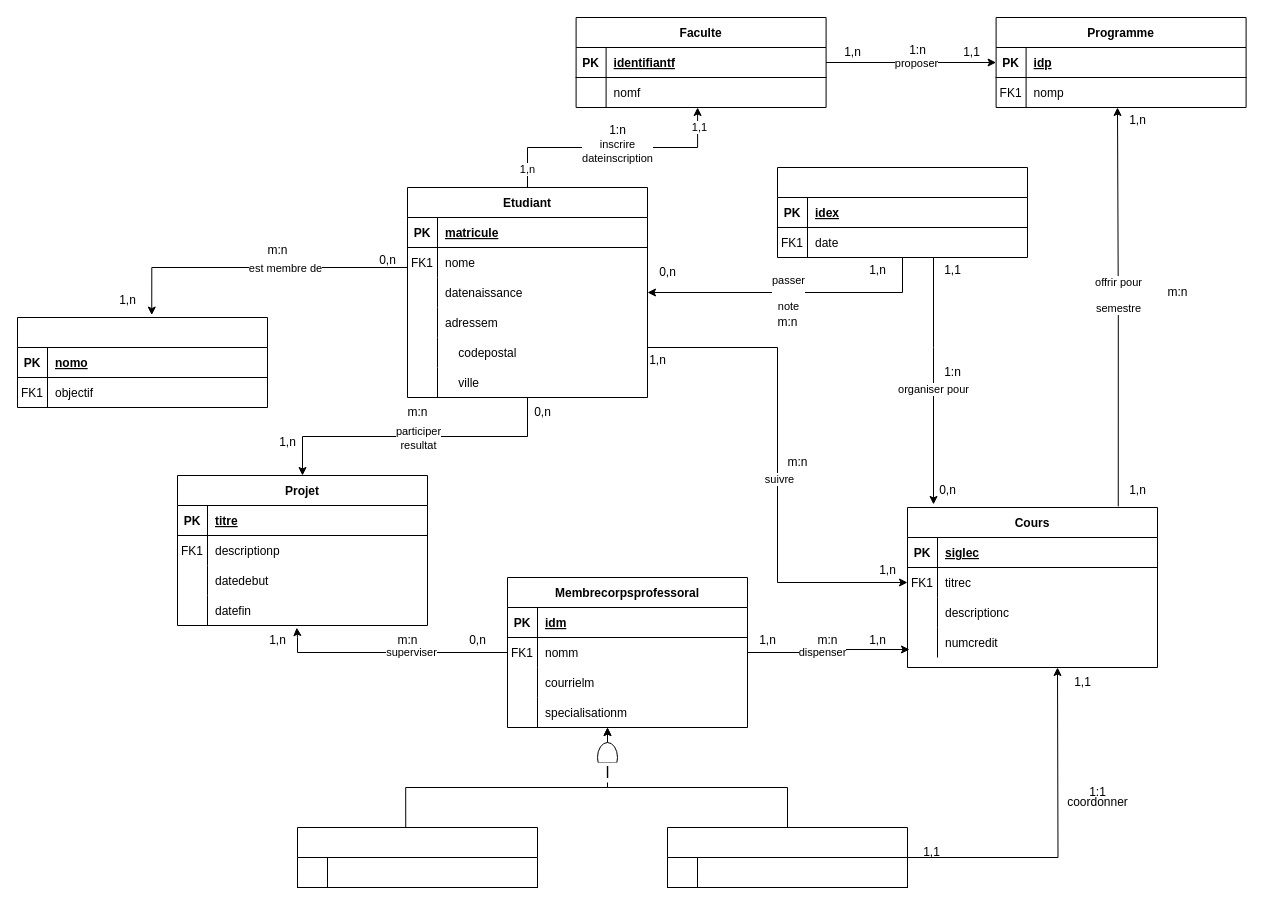
This 1264x905 diagram has some shape labels left out. The shapes that lost their labels are listed below. From the top down, each one's box as (x1, y1, x2, y2) in pixels, then its label:
(776, 166, 1028, 258): Examen
(16, 316, 268, 408): Organisationetudiante
(296, 826, 538, 888): Enseignantadjoint
(666, 826, 908, 888): Professeur
